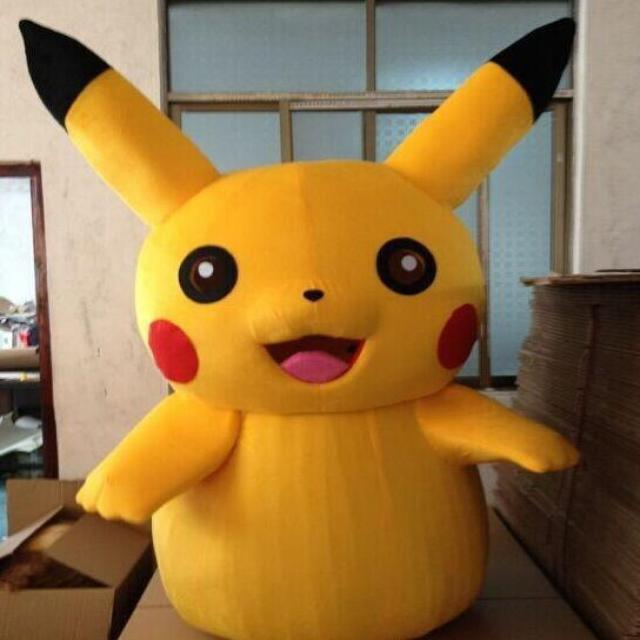pikachu: (15, 16, 585, 640)
